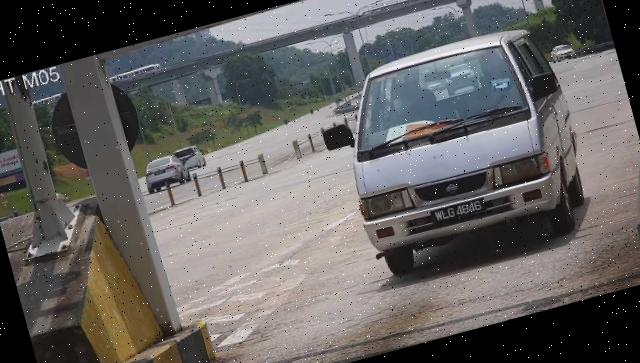License_Plate: (430, 196, 490, 230)
van: (325, 18, 601, 284)
